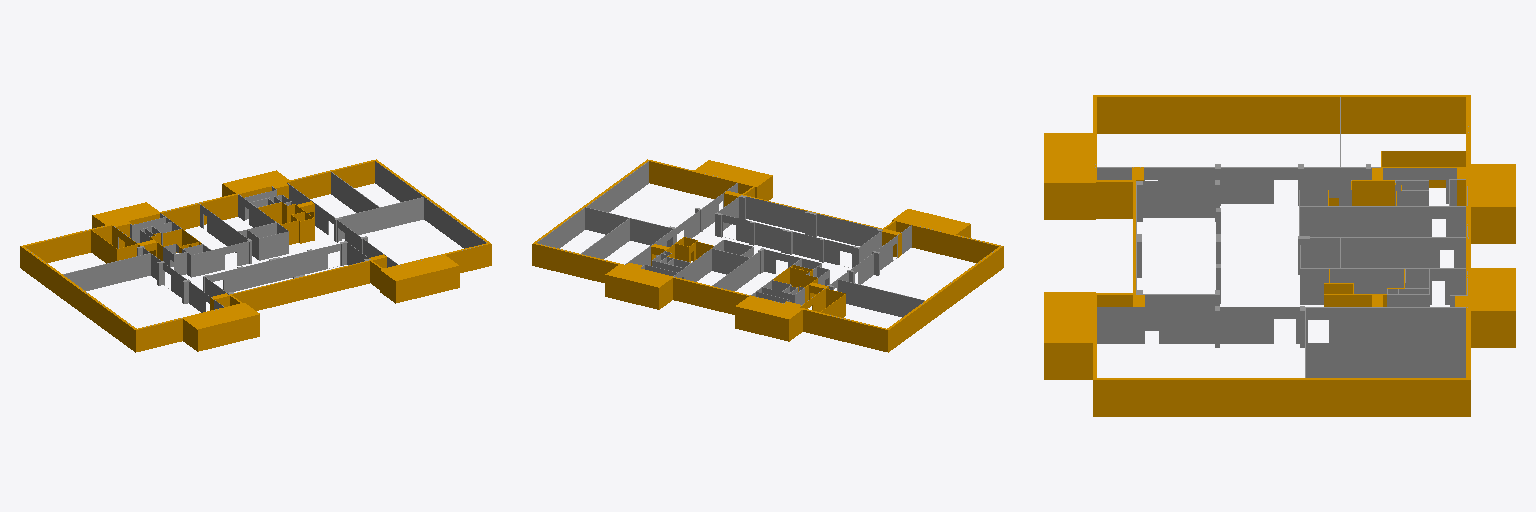
robot.urdf — cs_lg:
<?xml version="1.0"?>
<robot name="cs_lg">
  <link name="base_link">
    <visual>
      <origin rpy="0 0 0" xyz="0 0 0"/>
      <geometry>
        <mesh filename="package://strands_morse/bham/meshes/cs_lg.dae"/>
      </geometry>
    </visual>
  </link>
  <link name="base_footprint"/>
  <joint name="base_footprint_joint" type="fixed">
    <origin rpy="0 0 0" xyz="0 0 0.0"/>
    <child link="base_link"/>
    <parent link="base_footprint"/>
  </joint>
</robot>

--- Facts derived from the render (not from the file) ---
3 views of the same robot in one strip: view 1: azimuth 30°, elevation 25°; view 2: azimuth 150°, elevation 25°; view 3: azimuth 270°, elevation 25° (orthographic).
Robot: cs_lg — 2 links, 1 joints (1 fixed); root link base_footprint; default pose: every joint at zero.
Links seen in each view (by area): view 1: base_link; view 2: base_link; view 3: base_link.
Link boxes in pixels (x1,y1,x2,y2): base_link: (20,159,491,352); base_link: (532,159,1003,352); base_link: (1044,95,1515,416).
Size in the robot's own frame: 50 by 34.88 by 3 metres.
Meshes: 1 distinct files referenced, 1 mesh visuals loaded (1 Collada DAE).